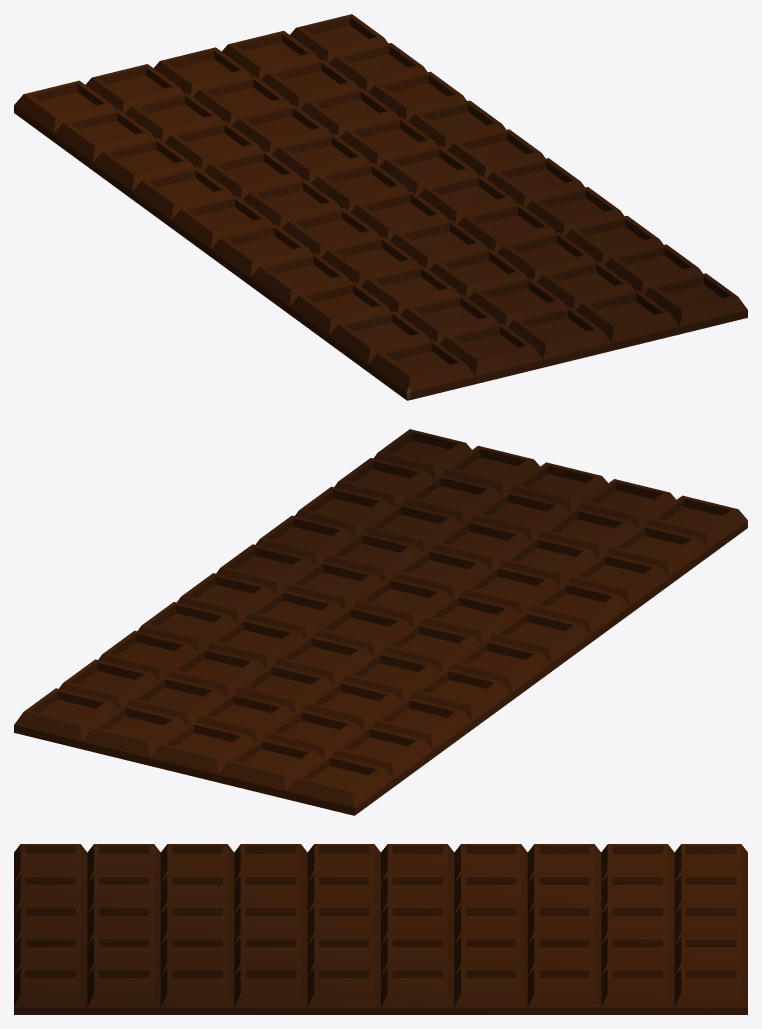
File: chocolate 1.fbx
3 views of the same model, one above another, from view 1: azimuth 30°, elevation 25°; view 2: azimuth 150°, elevation 25°; view 3: azimuth 270°, elevation 25° (orthographic). The views are drawn at different scales.
Parts seen in each view (by area): view 1: chocolate; view 2: chocolate; view 3: chocolate.
Boxes of the visible parts, bbox=[...] form: chocolate: bbox=[14, 14, 747, 400]; chocolate: bbox=[14, 429, 747, 815]; chocolate: bbox=[14, 844, 747, 1014].
Bounding box in the file's own units: 4.99 × 0.2785 × 9.99.
